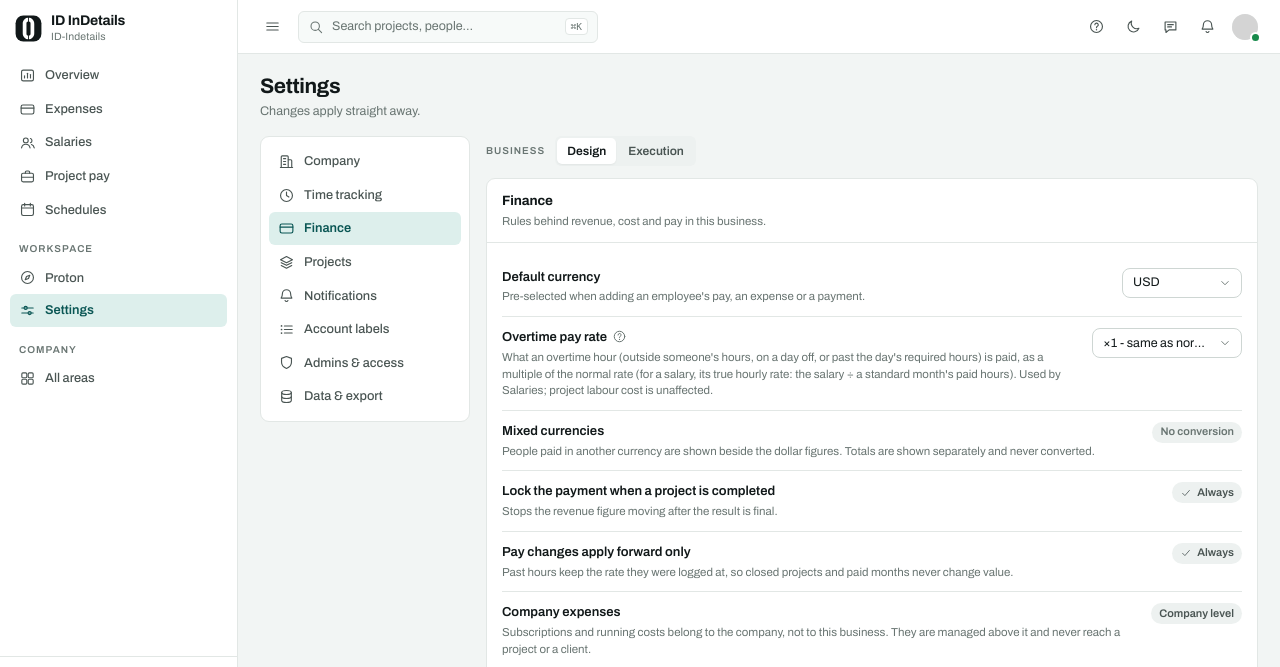
Test: Settings › are in the company area too, with the business picked for its own sections
The image size is (1280, 667).
What coordinates should you click on to do the following:
click the tab "Execution"
I would click on:
 (656, 151)
Its box is [618, 138, 694, 164].
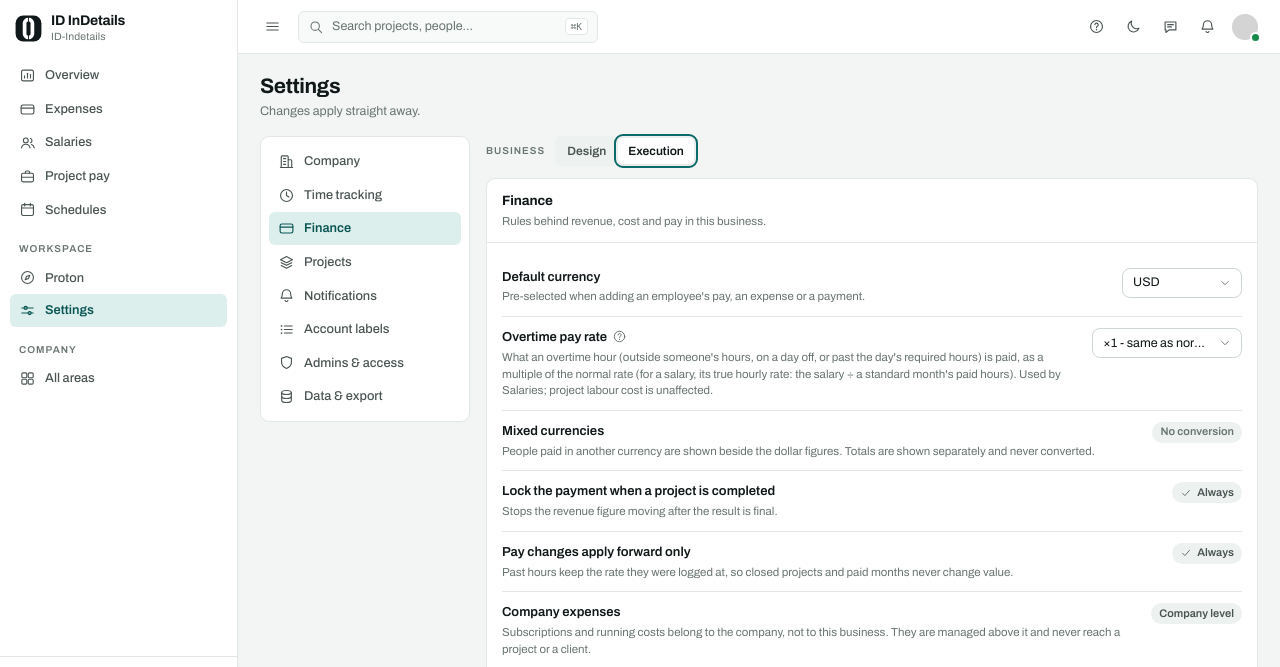
# the company's own section is the same for both
What coordinates should you click on to do the following:
click the button "Company"
I would click on:
 (365, 162)
Its box is [269, 145, 461, 178].
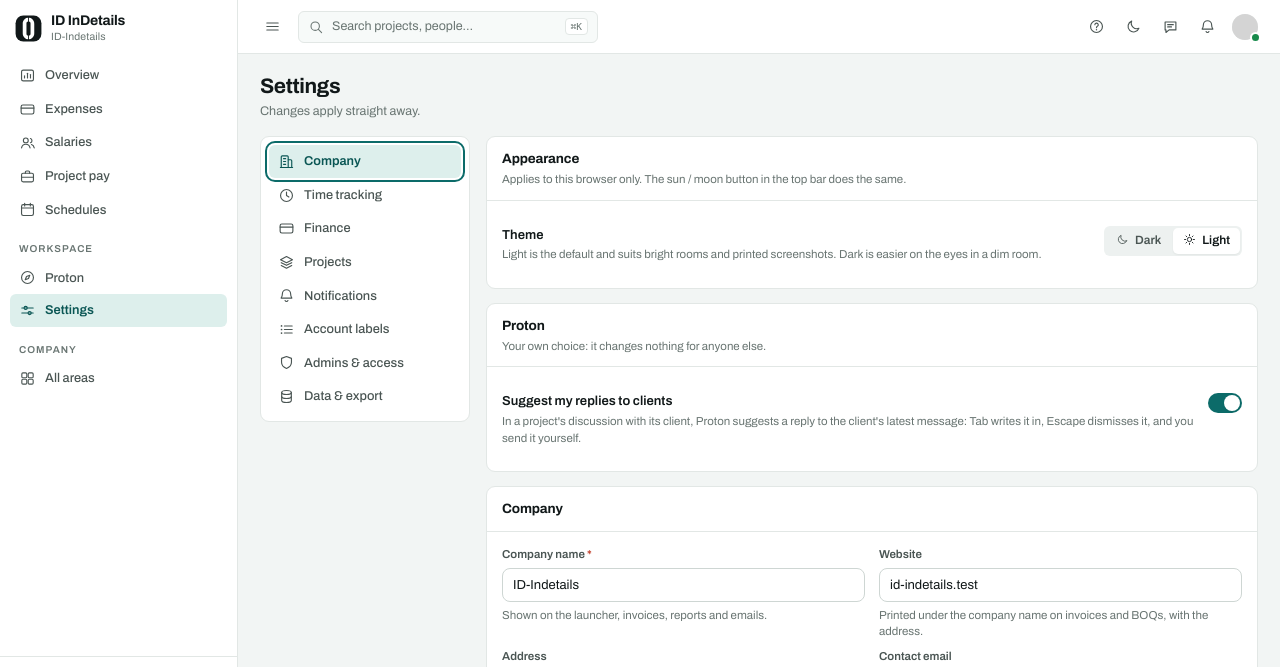
Result: the field labelled "Company name" is shown at [502, 568, 865, 602]
Result: the text "Business" is gone
